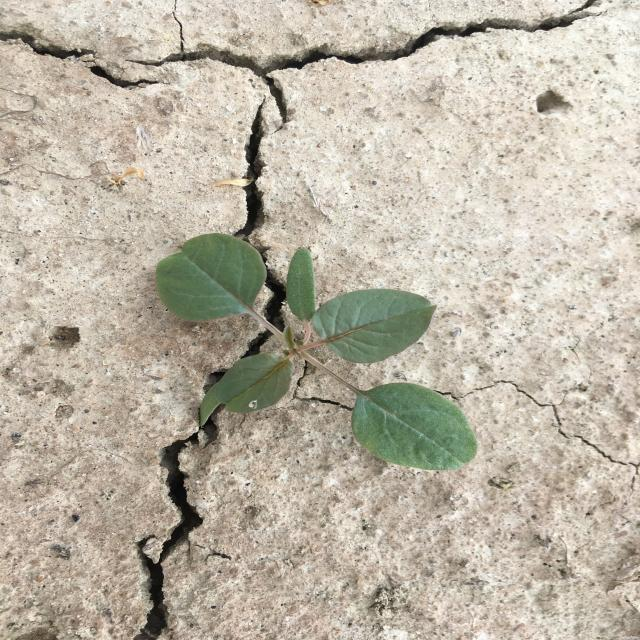PalmerAmaranth: (156, 233, 478, 471)
